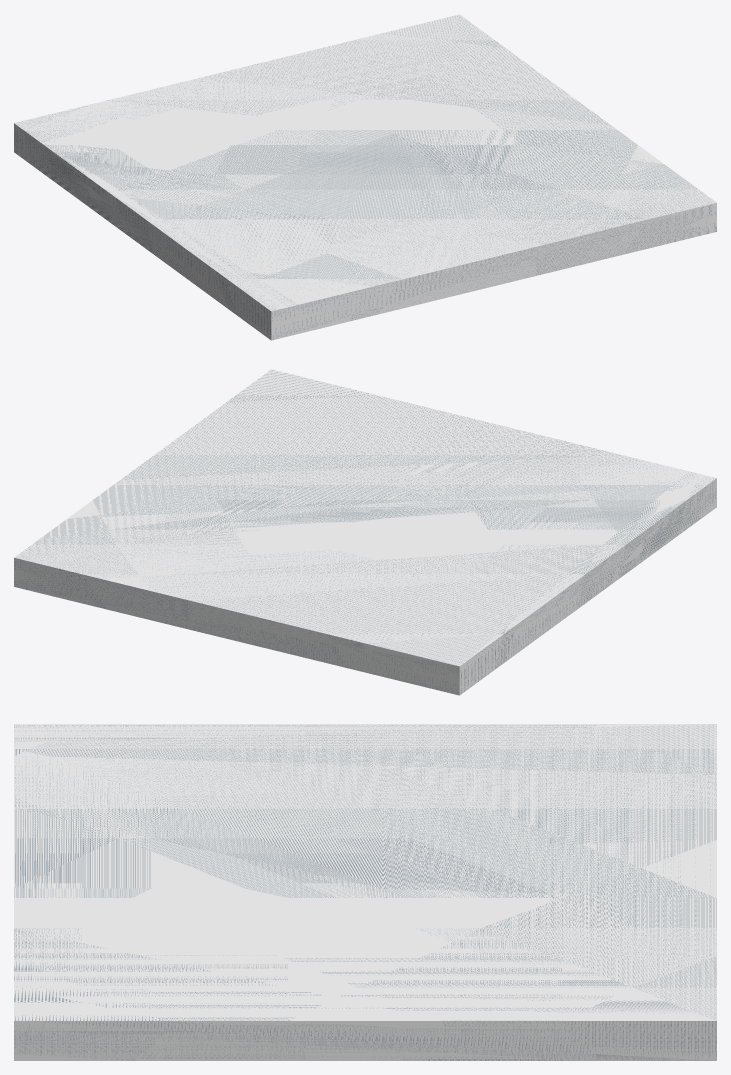
Rendered from Floor-Cieling.dae.
The picture shows the model from 3 angles, top to bottom: view 1: azimuth 30°, elevation 25°; view 2: azimuth 150°, elevation 25°; view 3: azimuth 270°, elevation 25°; orthographic projection. The views are drawn at different scales.
Parts seen in each view (by area): view 1: SketchUp; view 2: SketchUp; view 3: SketchUp.
Part boxes in pixels (bbox=[...]): SketchUp: bbox=[14, 14, 716, 340]; SketchUp: bbox=[14, 369, 716, 695]; SketchUp: bbox=[14, 724, 716, 1060].
Size of the model in its own units: 1 by 1 by 0.0625.
